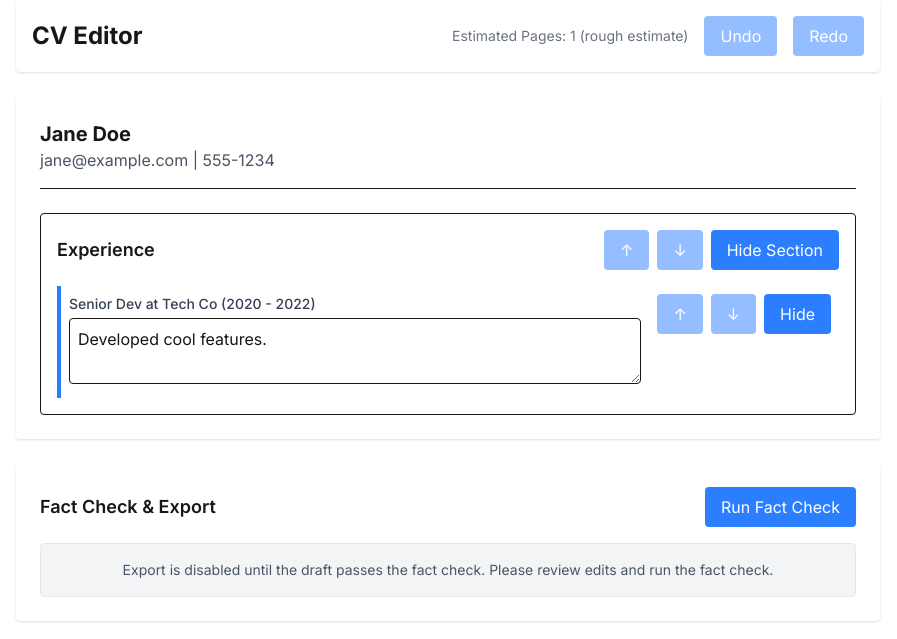
Scenario: CvEditor Component › can hide and restore items
Click the button "Hide" at (798, 314), box [764,294,831,334]
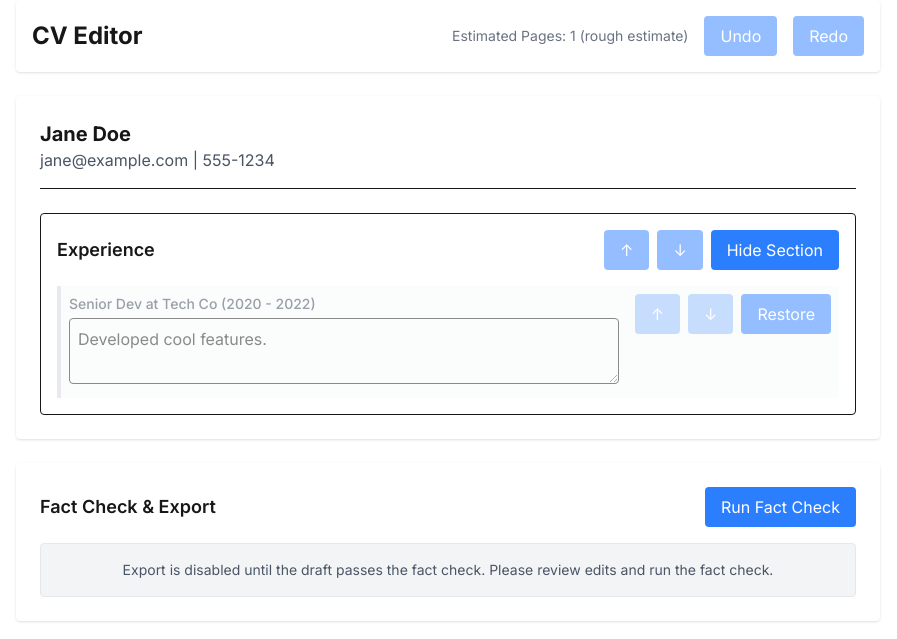
Expected: the text box showing "Developed cool features." is shown, [69,318,619,384]
Expected: the button "Restore" is shown, [741,294,831,334]
